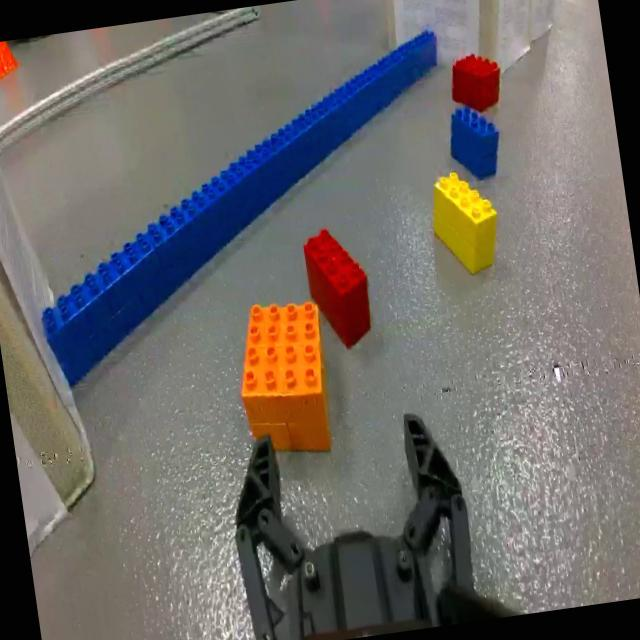block: (426, 166, 505, 279)
blue: (445, 105, 505, 182)
cone: (0, 39, 23, 84)
metal barrier: (0, 5, 261, 155)
orange: (230, 298, 338, 462)
red goal: (302, 222, 376, 352), (446, 49, 506, 114)
river: (39, 27, 439, 389)
storage cube: (0, 37, 106, 558), (380, 0, 543, 87), (530, 0, 555, 45)
